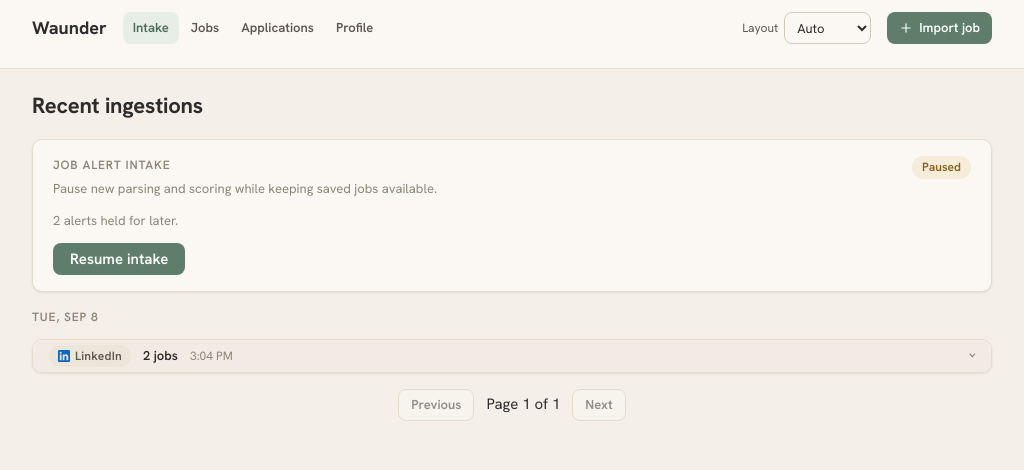
Scenario: intake control › resumes intake and reports how many held alerts were queued
Expected: the element with class "digest-content" is shown, x1=32 y1=139 x2=992 y2=421
Click the button "Resume intake" at (119, 259), box x1=53 y1=243 x2=185 y2=275
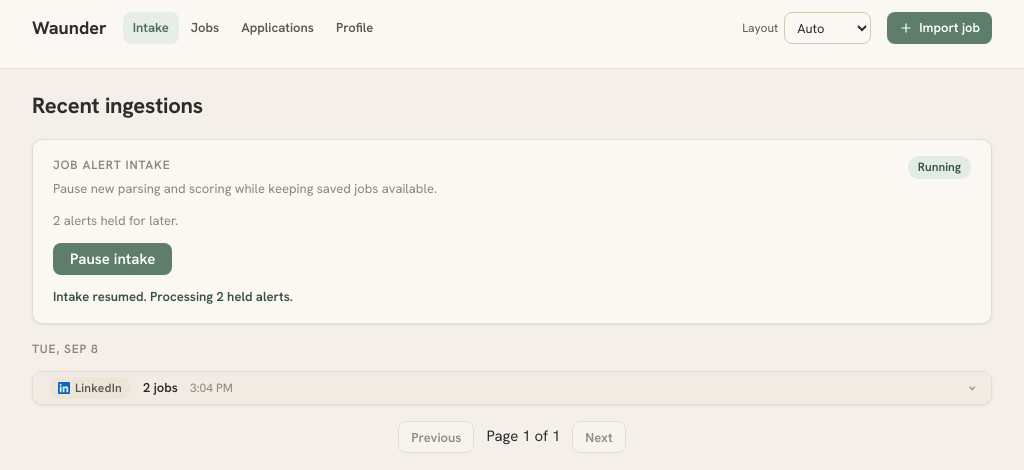
Now the text with class "intake-message" reads "Intake resumed. Processing 2 held alerts.", box x1=53 y1=288 x2=293 y2=305
Now the text "Running" is shown, box x1=908 y1=156 x2=971 y2=179
Now the button "Pause intake" is shown, box x1=53 y1=243 x2=172 y2=275
